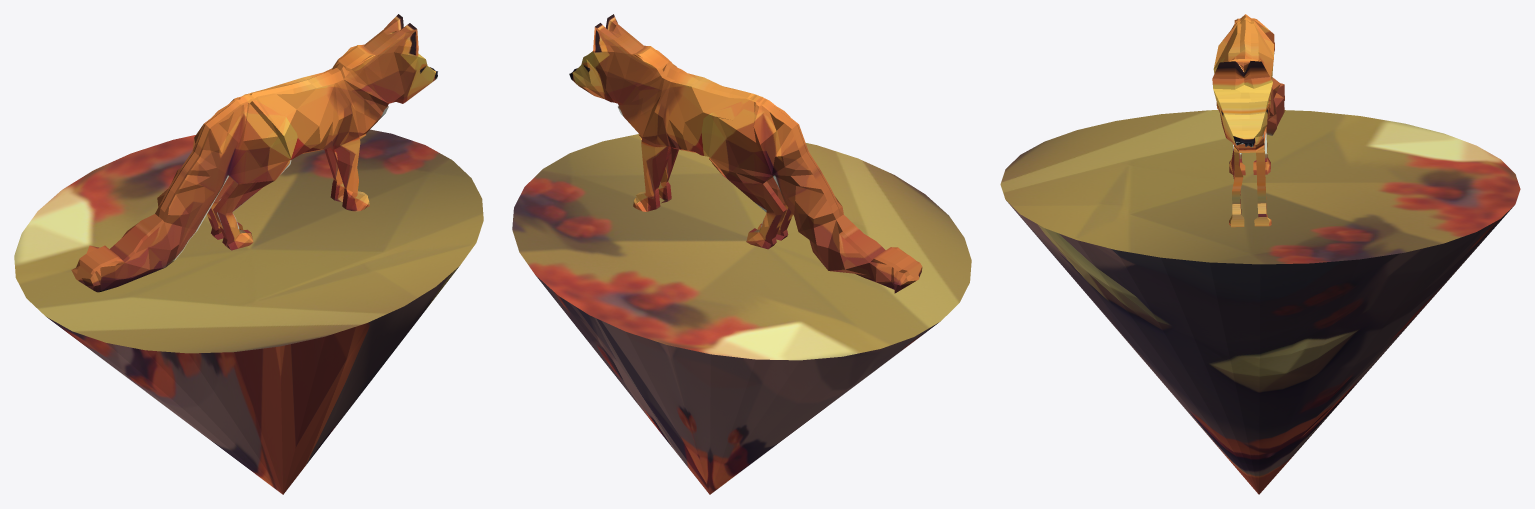
Rendered from rfox.glb.
3 renders of one model, left to right at view 1: azimuth 30°, elevation 25°; view 2: azimuth 150°, elevation 25°; view 3: azimuth 270°, elevation 25°, orthographic. The views are drawn at different scales.
Parts seen in each view (by area): view 1: Plane.001; view 2: Plane.001; view 3: Plane.001.
Boxes of the visible parts, x1,y1,x2,y2 form: Plane.001: [14, 14, 483, 494]; Plane.001: [512, 14, 971, 494]; Plane.001: [1000, 14, 1520, 494].
Bounding box in the file's own units: 1.98 × 2.11 × 2.
Materials: 2 (2 with a texture image).
